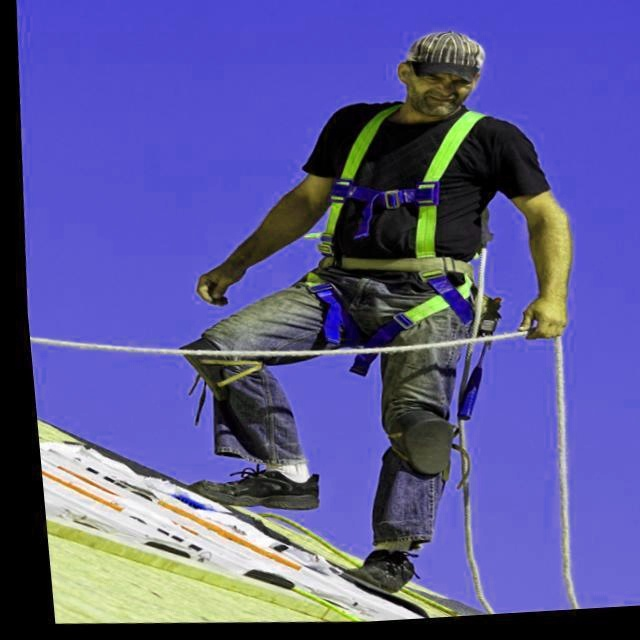safety belt: (279, 83, 512, 382)
